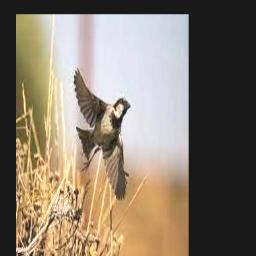Sparrow: (73, 67, 131, 200)
